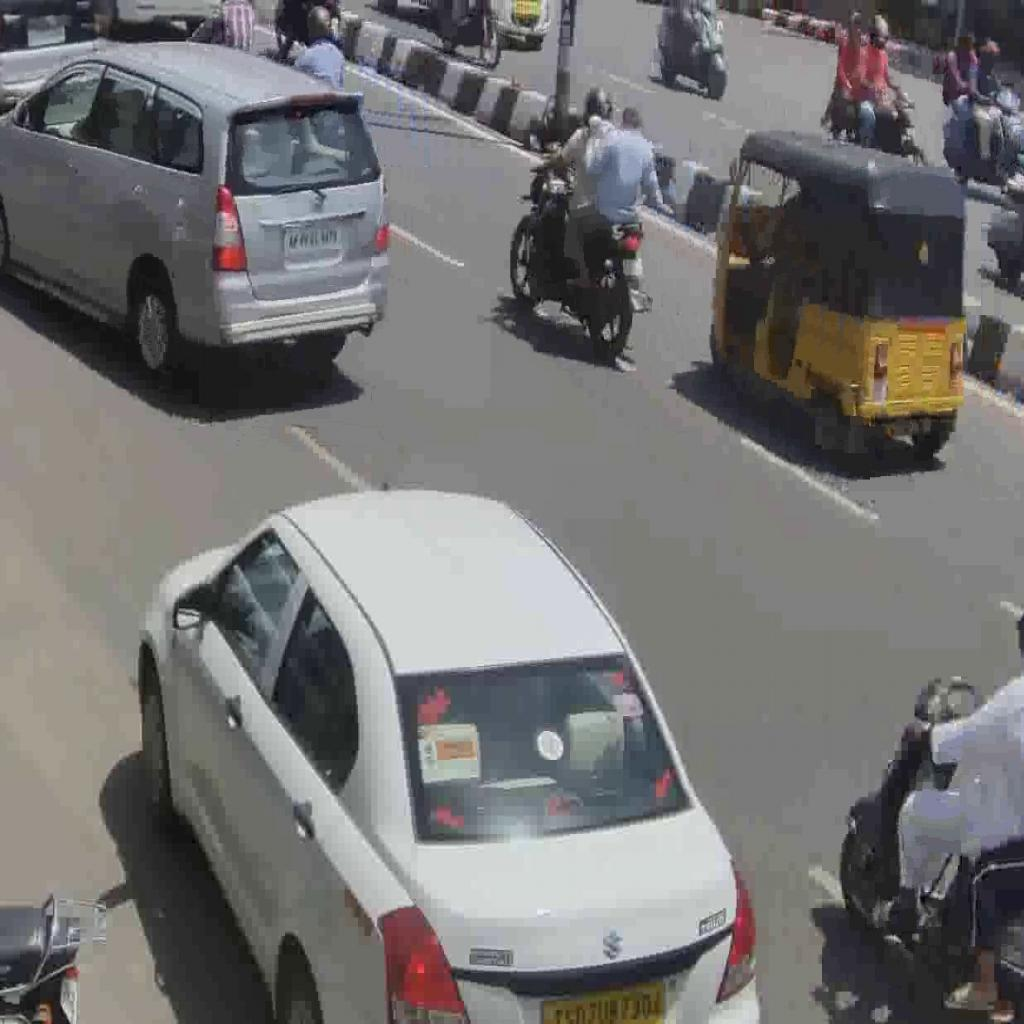helmet: (506, 157, 651, 350), (826, 88, 930, 171)
